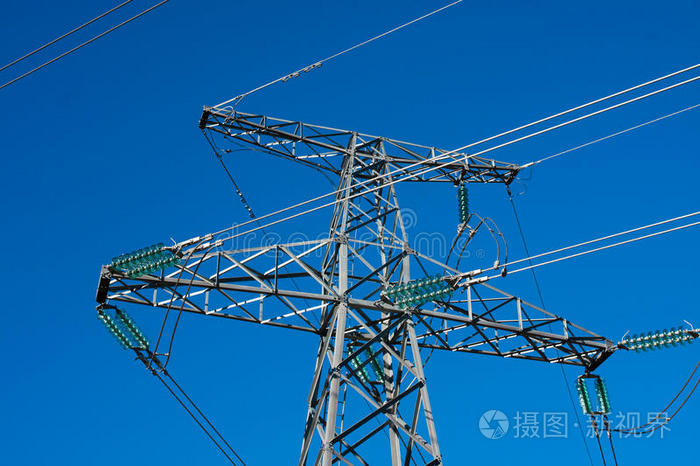insulator: (385, 273, 456, 304), (624, 323, 695, 350), (108, 242, 166, 269), (350, 345, 387, 386), (126, 252, 182, 279), (95, 309, 131, 351), (119, 311, 152, 349), (574, 376, 595, 416), (593, 375, 613, 416), (456, 185, 470, 225)
